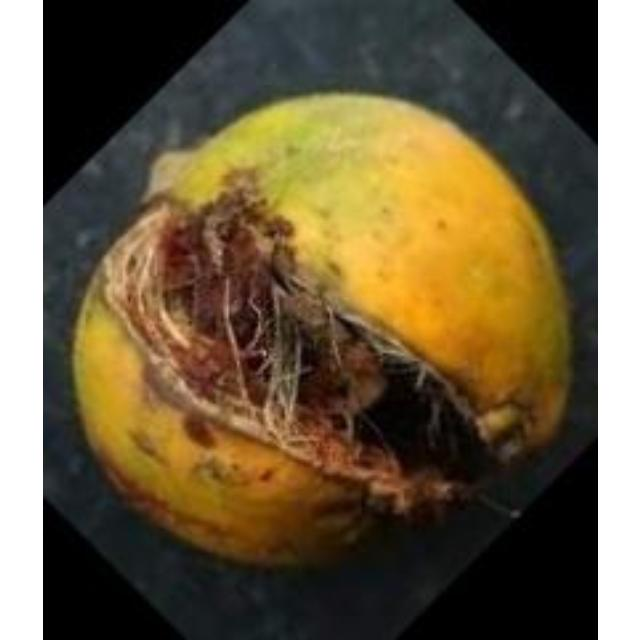damaged: (74, 93, 568, 563)
